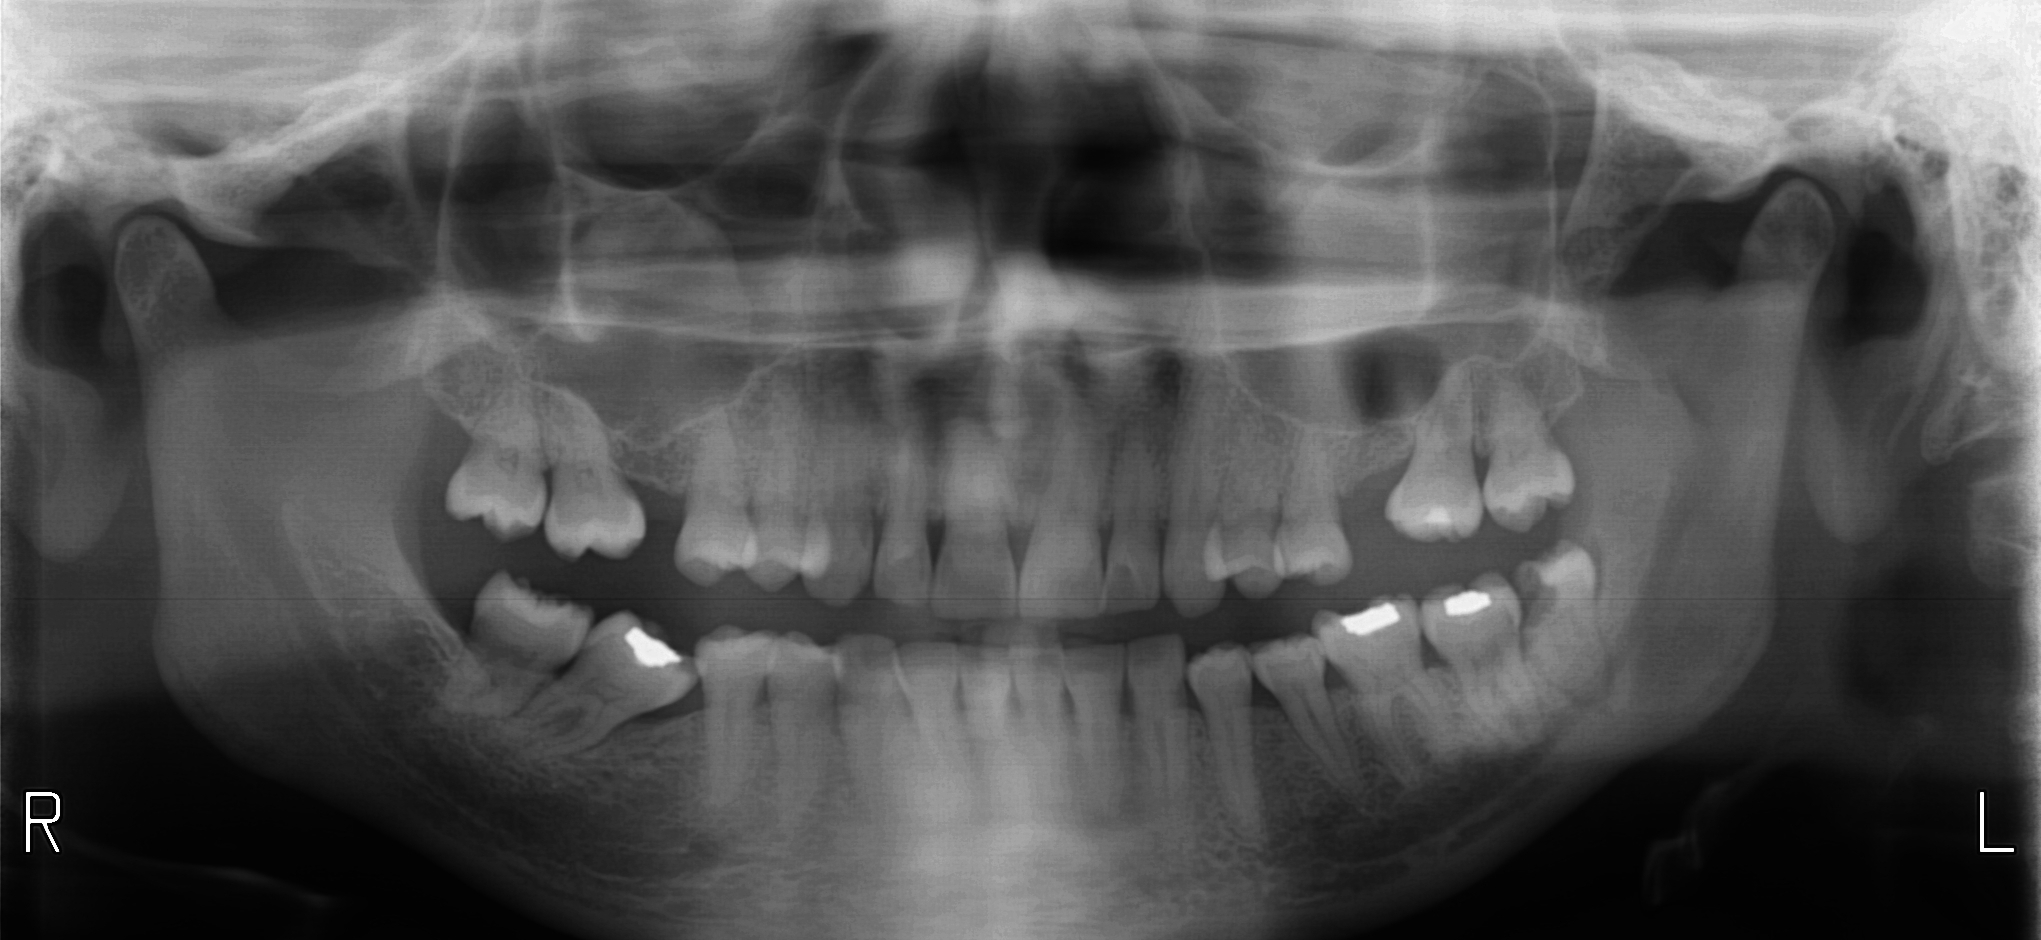cavity: (1522, 568, 1557, 657), (474, 615, 510, 654), (679, 656, 695, 673)
